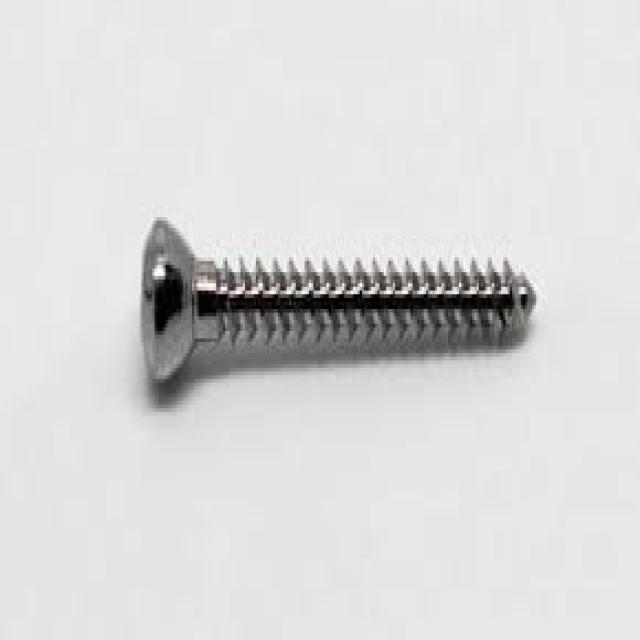Dry Waste: (97, 112, 566, 489)
